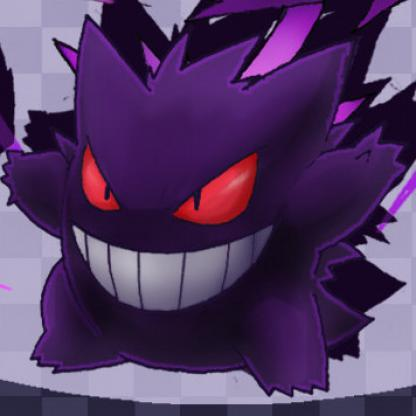Gengar: (1, 27, 410, 387)
